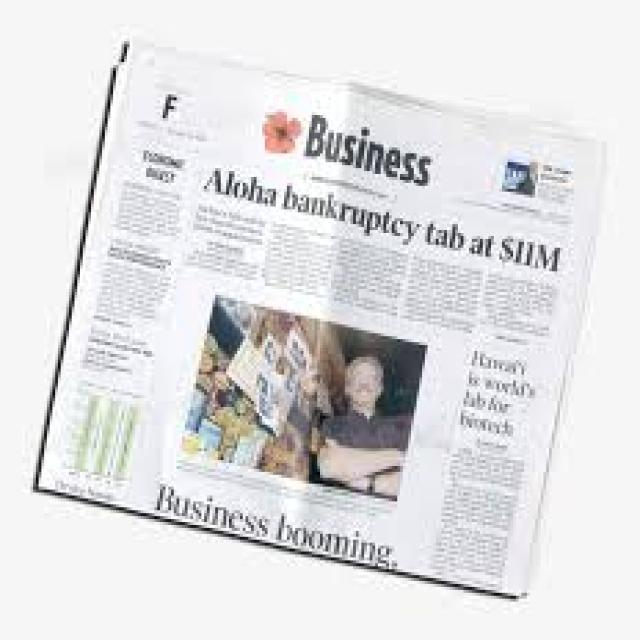Newspaper: (36, 42, 605, 598)
